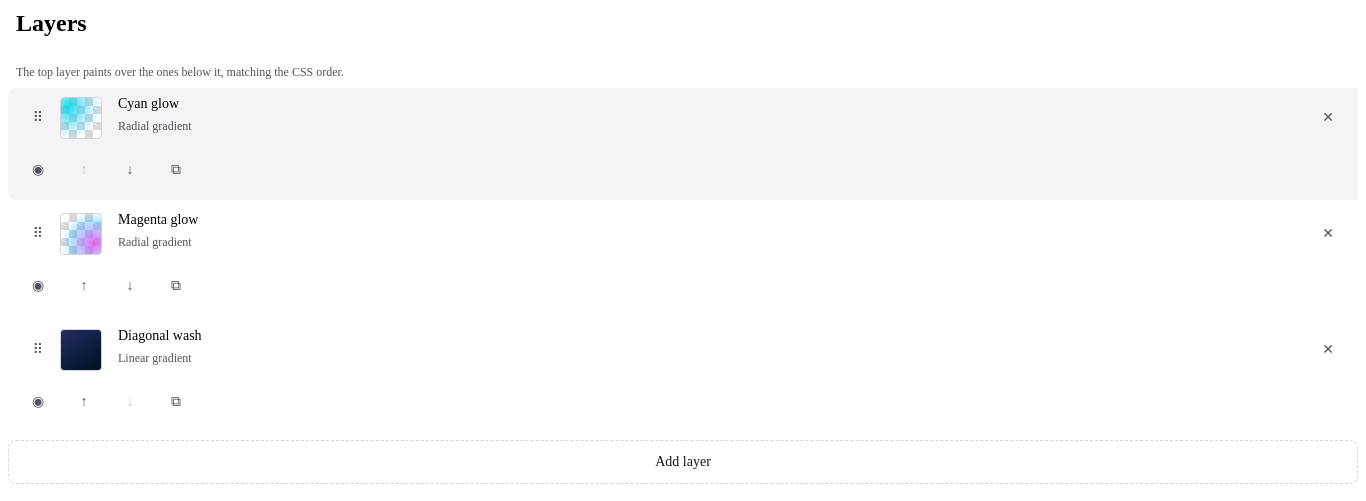
Test: deleting a layer › removes it and offers an undo
Click the button named "Delete Cyan glow": (1328, 118) [1306,96,1350,140]
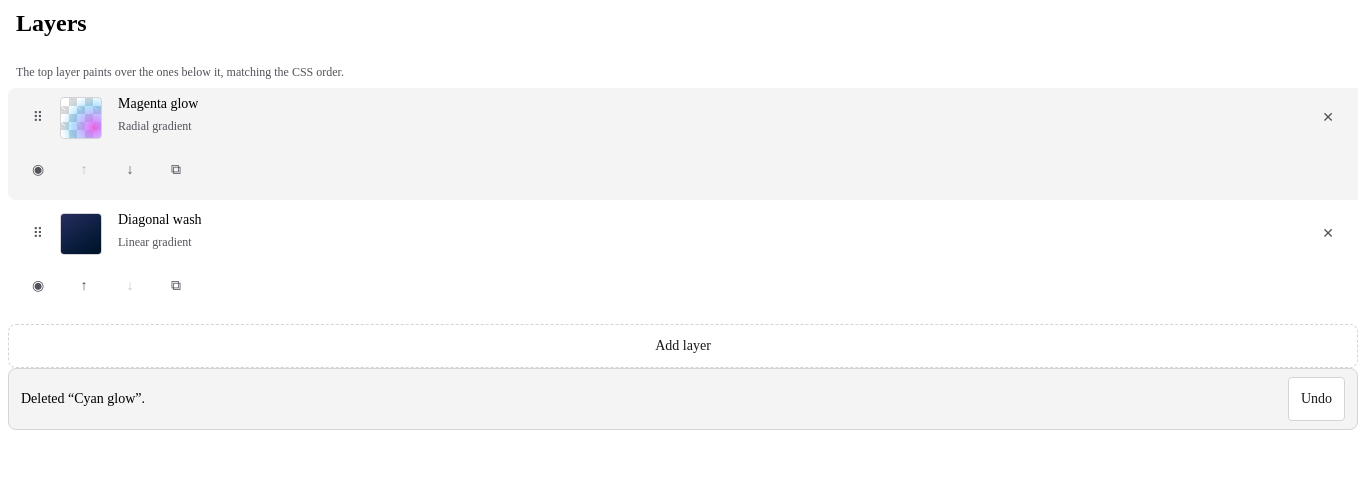
Expected: the message shows "Deleted “Cyan glow”.", [8,368,1358,430]
